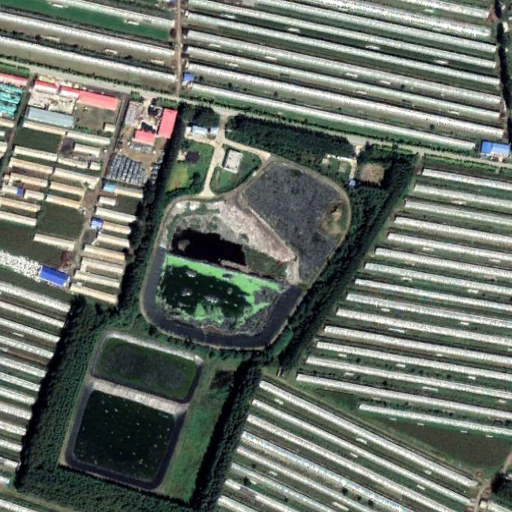lf: (142, 152, 351, 350)
